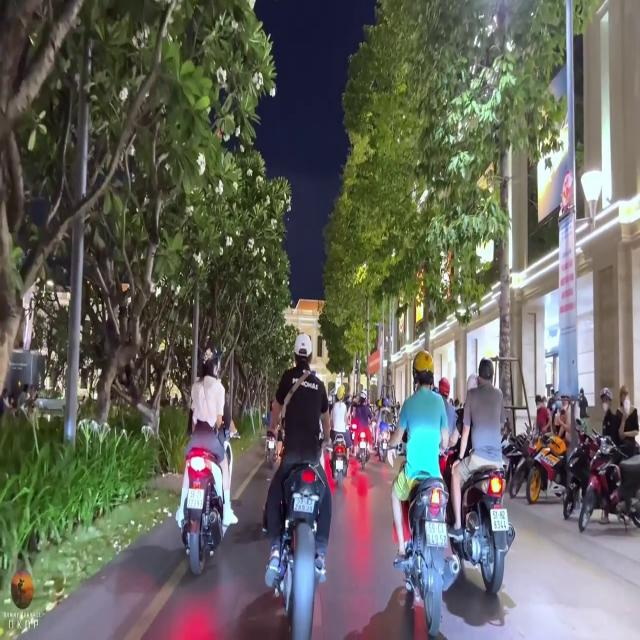bien_trang: (424, 521, 449, 546), (490, 509, 509, 535), (188, 487, 205, 512)
